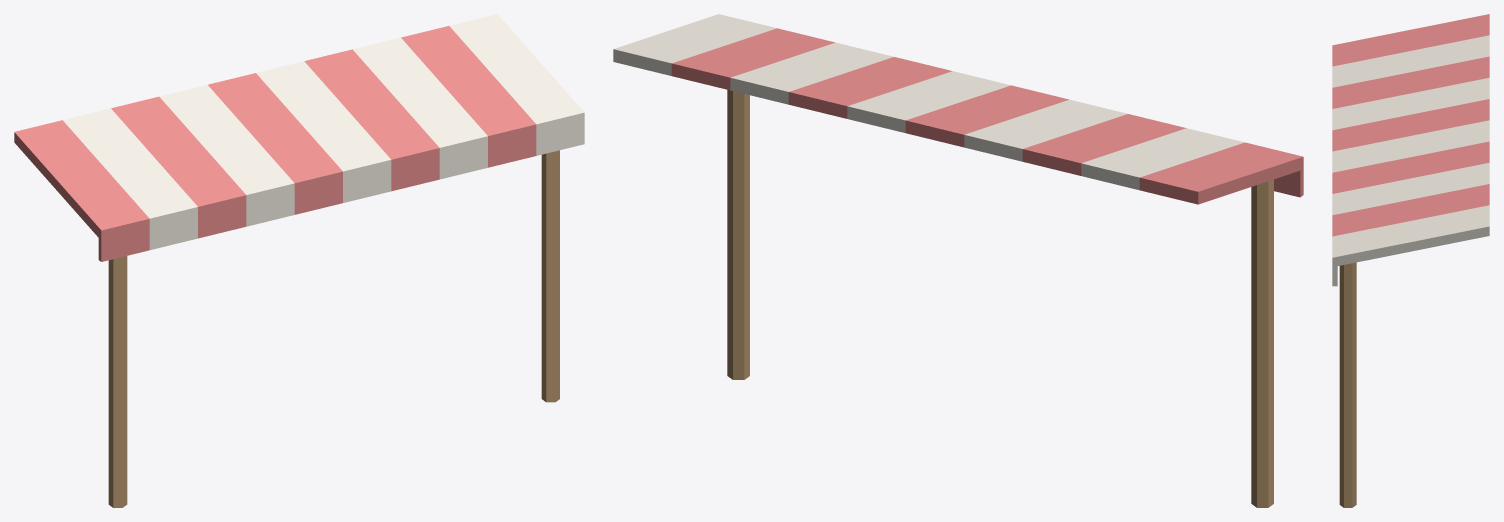
The model's file is awning_w4_8.glb.
The picture shows the model from 3 angles, left to right: view 1: azimuth 30°, elevation 25°; view 2: azimuth 150°, elevation 25°; view 3: azimuth 270°, elevation 25°; orthographic projection. The views are drawn at different scales.
Visible parts, largest first — view 1: Player; view 2: Player; view 3: Player.
Boxes of the visible parts, x1=… form: Player: x1=14, y1=14, x2=584, y2=507; Player: x1=613, y1=14, x2=1303, y2=507; Player: x1=1332, y1=14, x2=1489, y2=507.
Size of the model in its own units: 4.8 by 3.05 by 1.5.
